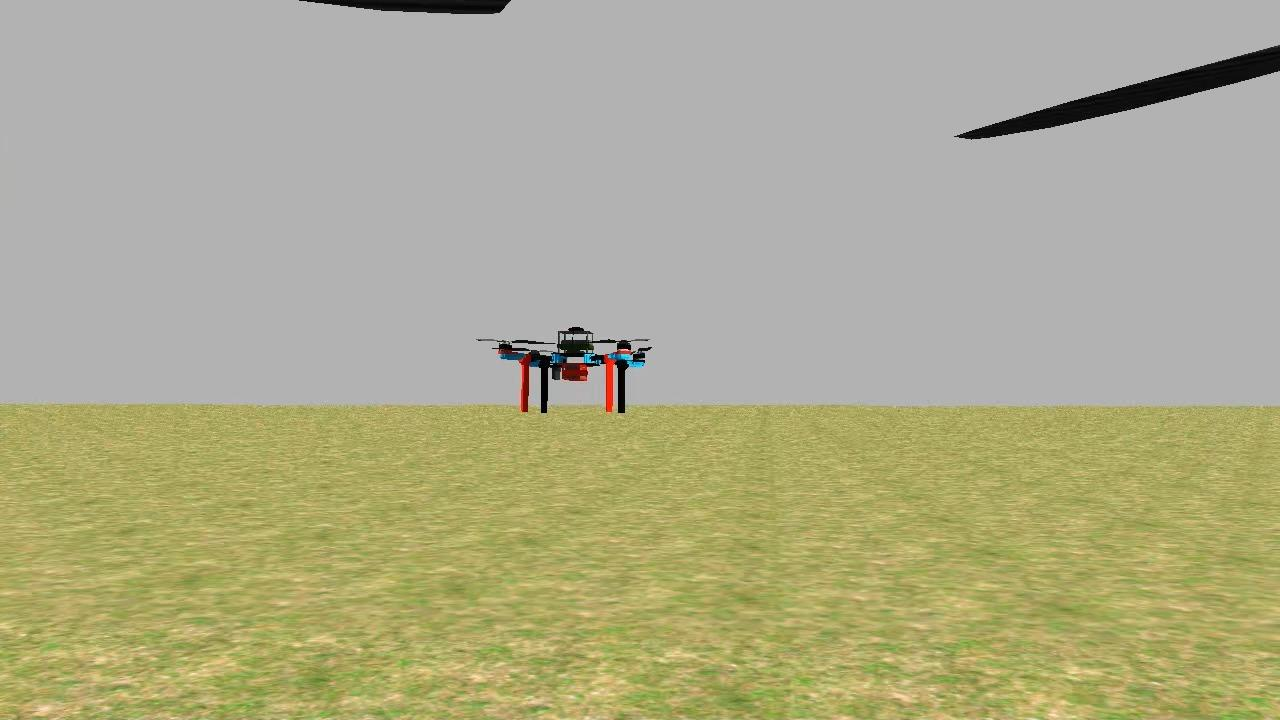UAV: (493, 308, 654, 426)
